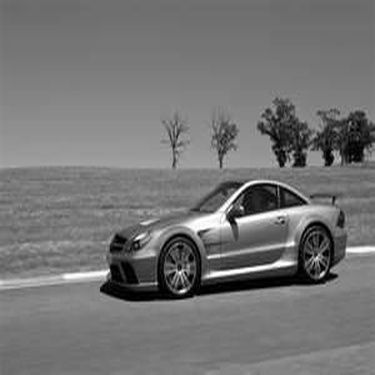car: (93, 173, 352, 300)
